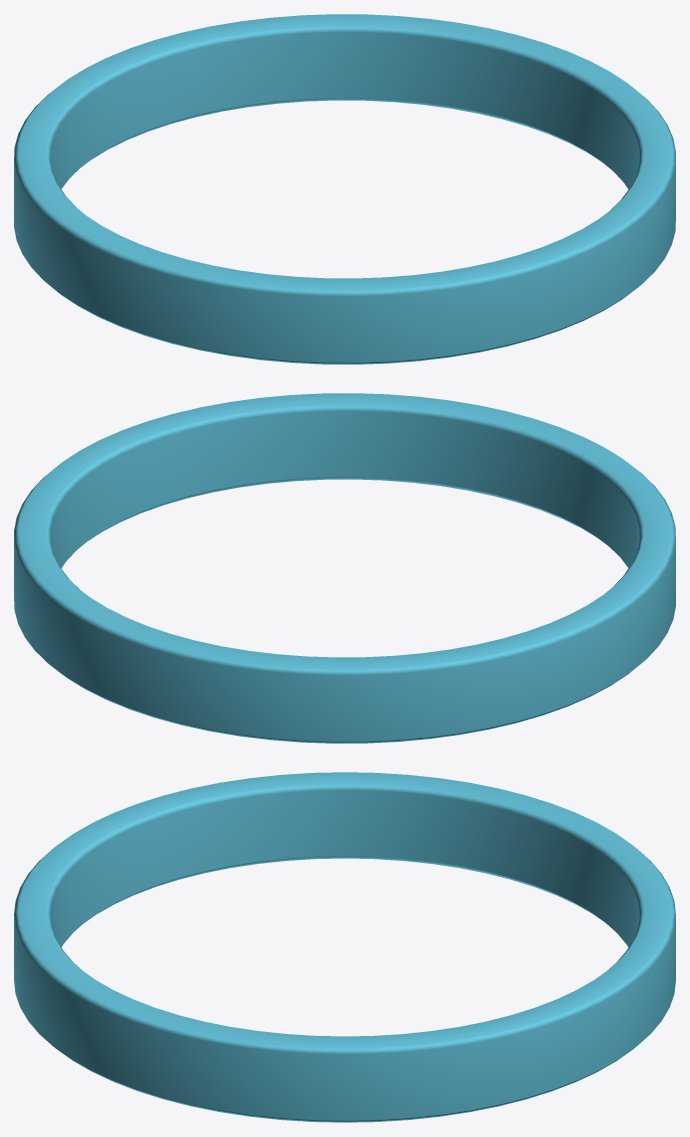
3 renders of one model, top to bottom at view 1: azimuth 30°, elevation 25°; view 2: azimuth 150°, elevation 25°; view 3: azimuth 270°, elevation 25°, orthographic.
Visible parts, largest first — view 1: seal_body; view 2: seal_body; view 3: seal_body.
Boxes of the visible parts, x1,y1,x2,y2 form: seal_body: (14, 14, 675, 364); seal_body: (14, 393, 675, 743); seal_body: (14, 772, 675, 1122).
Size of the model in its own units: 0.1143 by 0.0143 by 0.1143.
